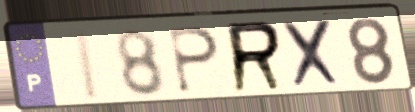8: (345, 15, 398, 87), (114, 27, 167, 98)
I: (72, 29, 104, 103)
P: (166, 25, 222, 96)
R: (224, 18, 288, 96)
X: (279, 17, 346, 91)
